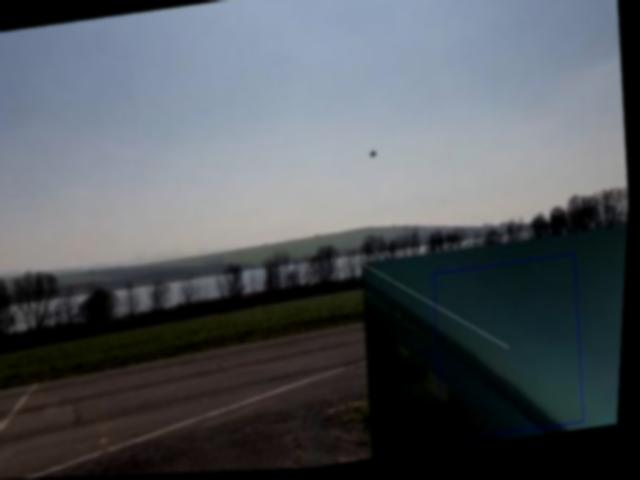uav: (367, 150, 382, 164)
